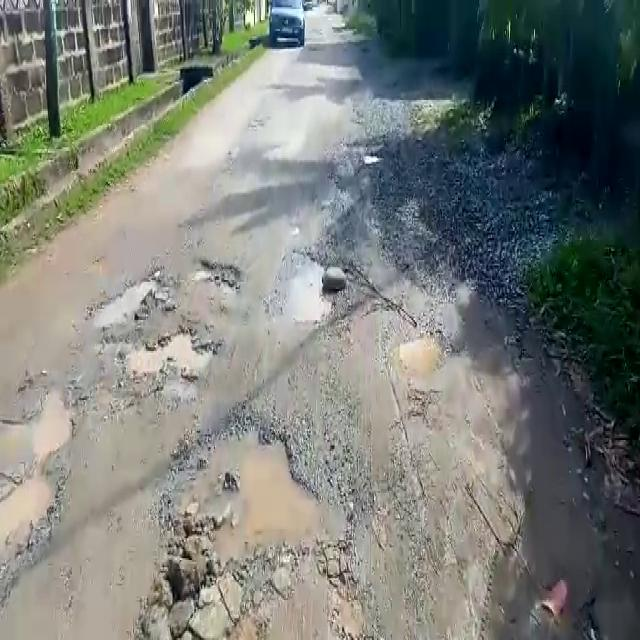Pothole: (163, 422, 333, 555), (0, 461, 62, 579), (3, 386, 80, 463), (118, 327, 222, 382), (92, 266, 175, 334), (277, 254, 333, 326), (397, 329, 443, 374), (195, 255, 243, 289)
